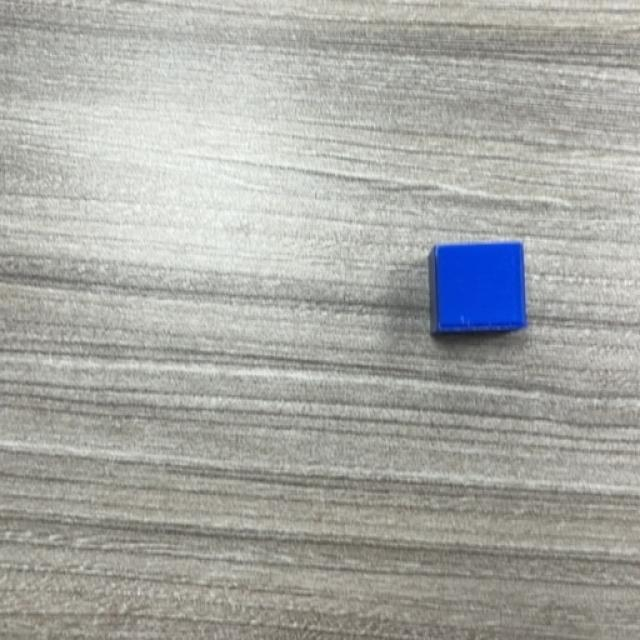Azul: (429, 241, 528, 339)
